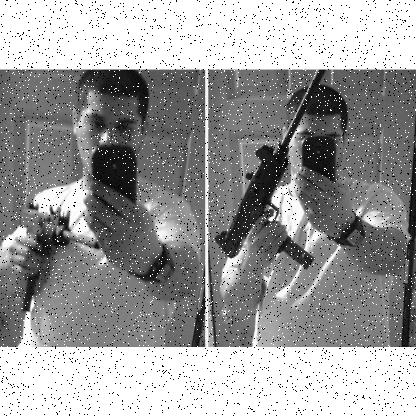gun: (209, 142, 318, 272), (14, 204, 102, 310)
